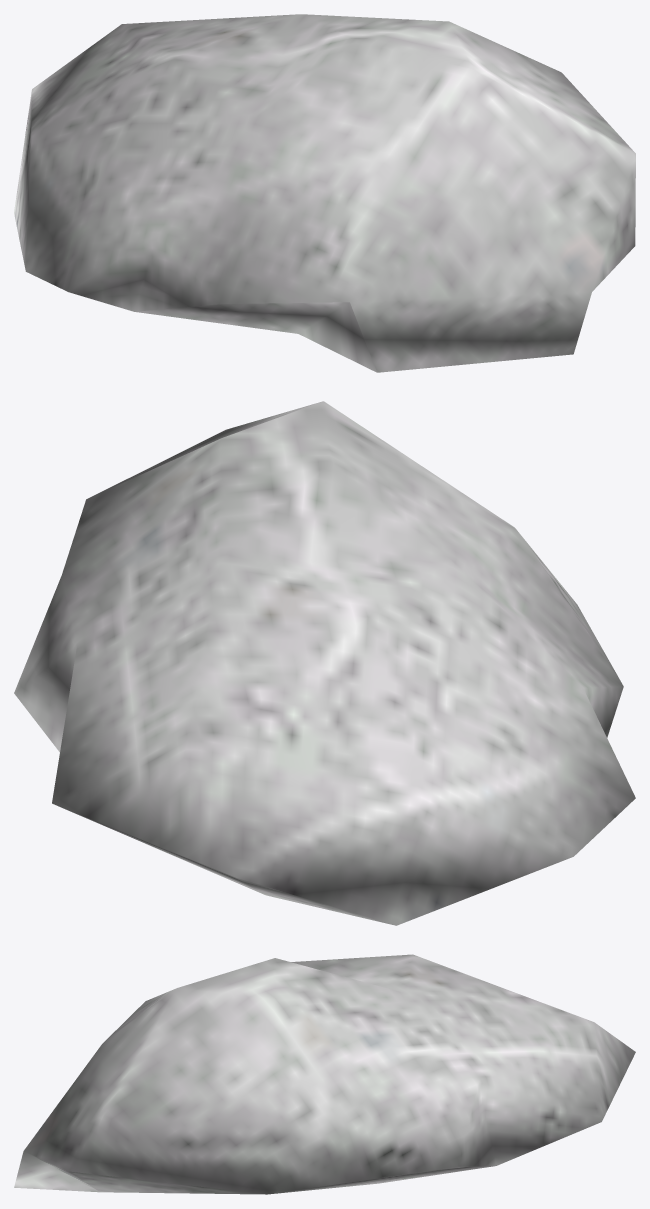
Rendered from campfire_rocks004.fbx.
3 renders of one model, top to bottom at view 1: azimuth 30°, elevation 25°; view 2: azimuth 150°, elevation 25°; view 3: azimuth 270°, elevation 25°, orthographic. The views are drawn at different scales.
Visible parts, largest first — view 1: campfire_rocks004; view 2: campfire_rocks004; view 3: campfire_rocks004.
Part boxes in pixels (x1,y1,x2,y2): campfire_rocks004: [14, 14, 635, 372]; campfire_rocks004: [14, 401, 635, 925]; campfire_rocks004: [14, 954, 635, 1194].
Bounding box in the file's own units: 27.19 × 12.55 × 34.57.
